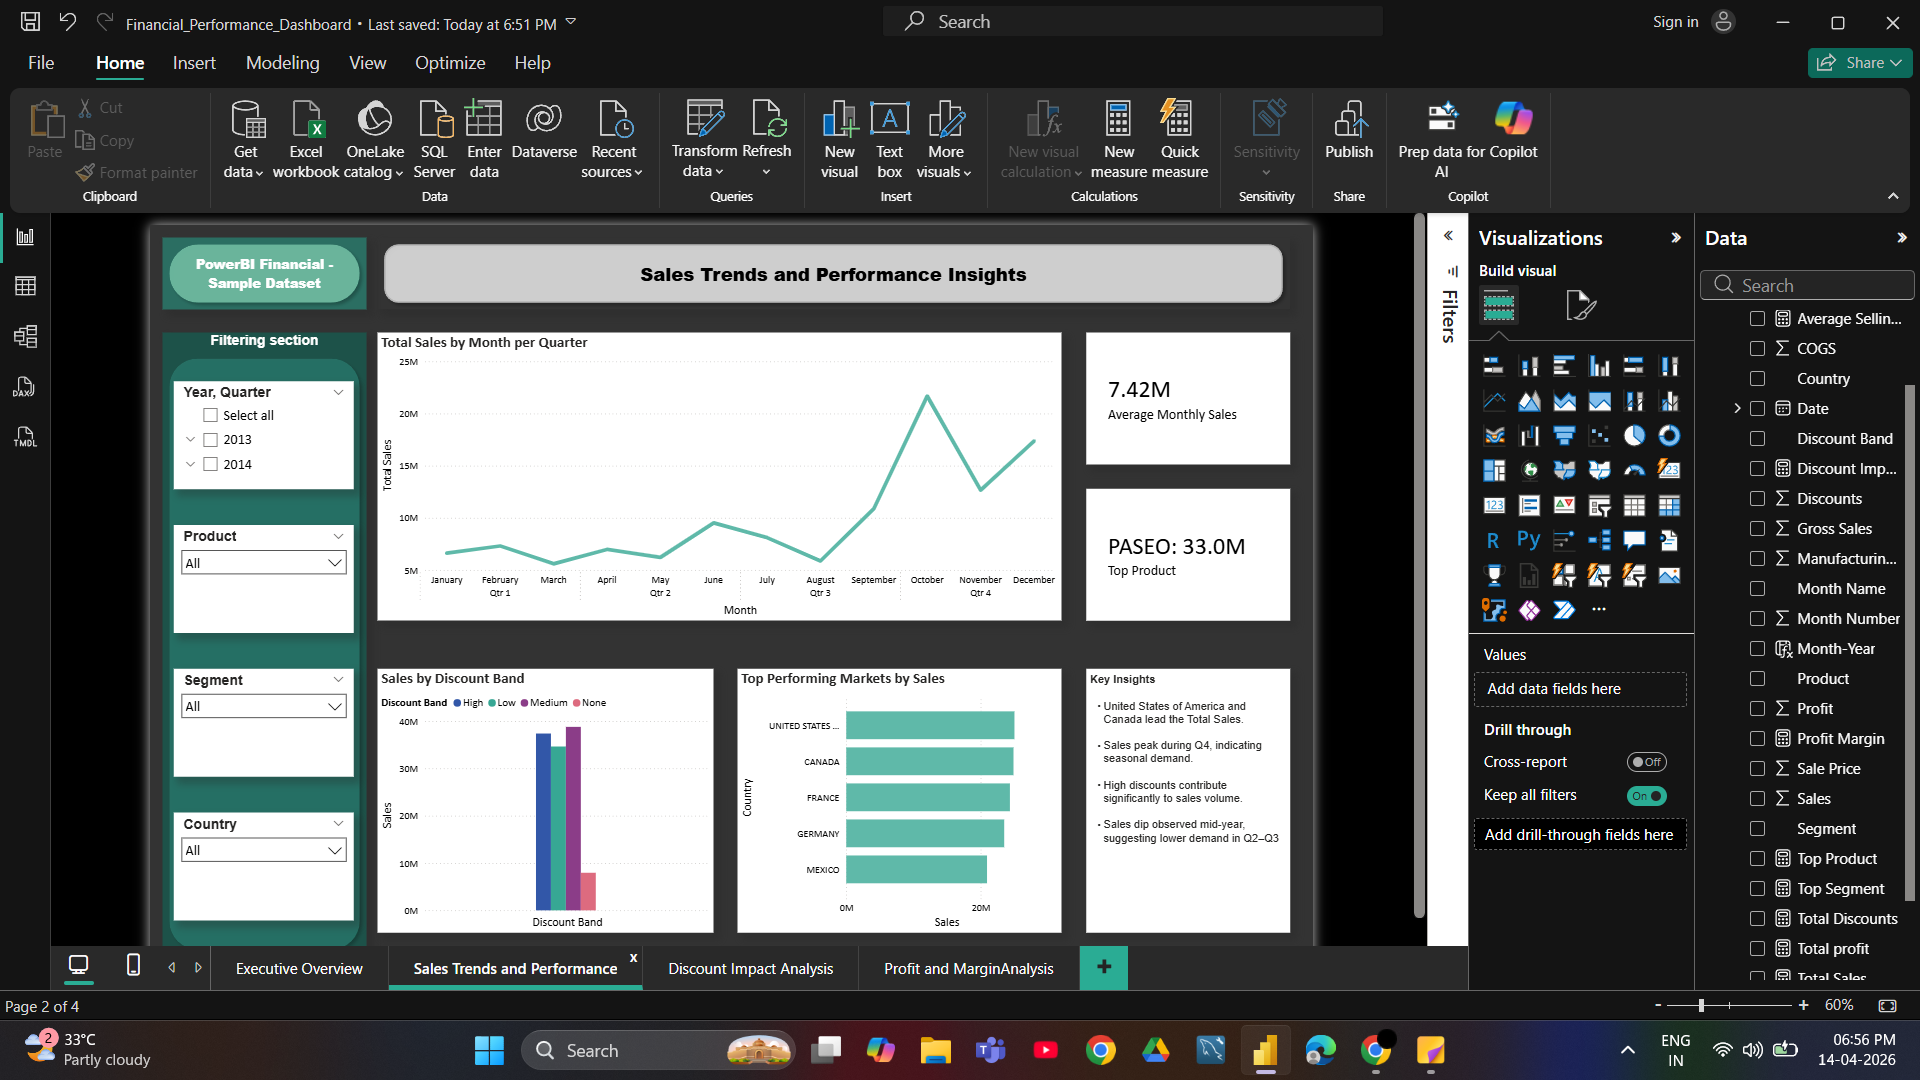

The dashboard page shown, as its layout file describes it:
{"tool":"powerbi","page":{"name":"Sales Trends and Performance","canvas":[1550,1000],"ordinal":1},"visuals":[{"type":"shape","title":"Filtering  section","box":[16,144,272,832],"z":0},{"type":"shape","title":"PowerBI Financial - Sample Dataset","box":[16,16,272,96],"z":1000},{"type":"shape","box":[304,16,1216,96],"z":2000},{"type":"slicer","fields":{"Values":["financials.Date.Variation.Date Hierarchy.Year","financials.Date.Variation.Date Hierarchy.Quarter"]},"box":[32,208,240,144],"z":3000},{"type":"slicer","fields":{"Values":["financials.Product"]},"box":[32,400,240,144],"z":4000},{"type":"slicer","fields":{"Values":["financials.Segment"]},"box":[32,592,240,144],"z":5000},{"type":"slicer","fields":{"Values":["financials.Country"]},"box":[32,784,240,144],"z":6000},{"type":"textbox","box":[1248,592,272,352],"z":7000},{"type":"lineChart","title":"Total Sales by Month per Quarter","fields":{"Y":["financials.Total Sales"],"Category":["financials.Date.Variation.Date Hierarchy.Quarter","financials.Date.Variation.Date Hierarchy.Month"]},"box":[304,144,912,384],"z":8000},{"type":"clusteredColumnChart","title":"Sales by Discount Band","fields":{"Y":["Sum(financials.Sales)"],"Series":["financials.Discount Band"]},"box":[304,592,448,352],"z":9000},{"type":"clusteredBarChart","title":"Top Performing Markets by Sales","fields":{"Y":["Sum(financials.Sales)"],"Category":["financials.Country"]},"box":[784,592,432,352],"z":10000},{"type":"cardVisual","fields":{"Data":["financials.Average Monthly Sales"]},"box":[1248,144,272,176],"z":11000},{"type":"cardVisual","fields":{"Data":["financials.Top Performer"]},"box":[1248,352,272,176],"z":12000}]}

Visuals, with their boxes on the page's 1550x1000 design canvas (x1, y1, x2, y2). These are canvas units, not pixel positions in the 1920x1080 screenshot, which may show the page scaled, cropped or inside an application window:
"Filtering  section" shape: crop(16, 144, 288, 976)
"PowerBI Financial - Sample Dataset" shape: crop(16, 16, 288, 112)
shape: crop(304, 16, 1520, 112)
slicer - financials.Date.Variation.Date Hierarchy.Year x financials.Date.Variation.Date Hierarchy.Quarter: crop(32, 208, 272, 352)
slicer - financials.Product: crop(32, 400, 272, 544)
slicer - financials.Segment: crop(32, 592, 272, 736)
slicer - financials.Country: crop(32, 784, 272, 928)
textbox: crop(1248, 592, 1520, 944)
"Total Sales by Month per Quarter" lineChart: crop(304, 144, 1216, 528)
"Sales by Discount Band" clusteredColumnChart: crop(304, 592, 752, 944)
"Top Performing Markets by Sales" clusteredBarChart: crop(784, 592, 1216, 944)
cardVisual - financials.Average Monthly Sales: crop(1248, 144, 1520, 320)
cardVisual - financials.Top Performer: crop(1248, 352, 1520, 528)
